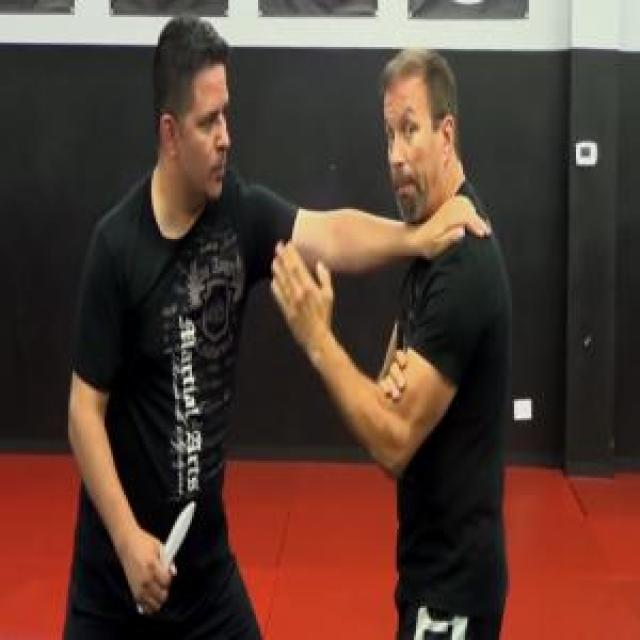knife: (134, 492, 198, 618)
